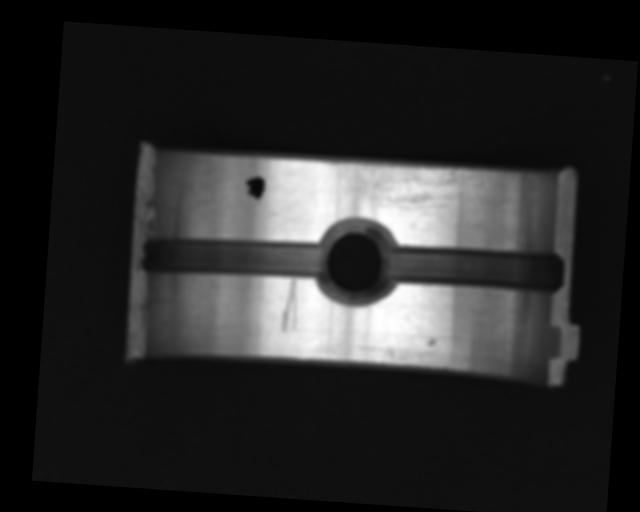blot: (242, 173, 267, 206)
bruise: (426, 337, 436, 347)
gap: (136, 229, 327, 289), (383, 242, 566, 297)
hole: (316, 217, 397, 305)
nick: (279, 276, 301, 334)
scratch: (318, 155, 491, 218)
